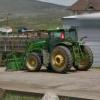Tractor: (11, 23, 95, 76)
